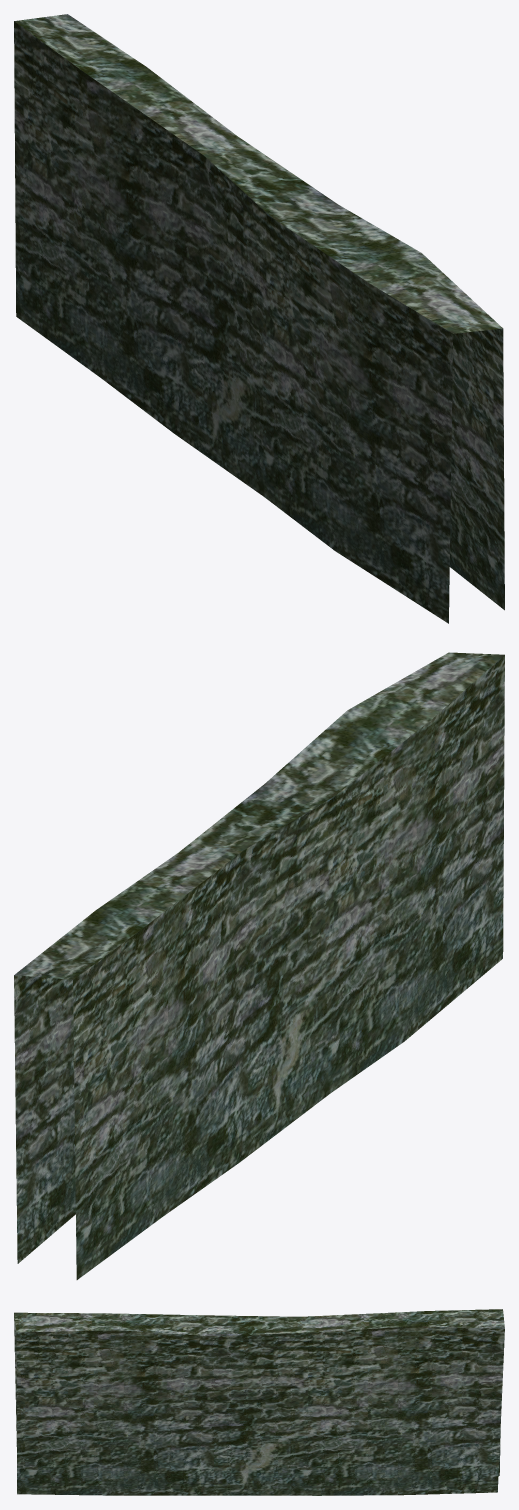
Rendered from Tn_wall.glb.
3 views of the same model, one above another, from view 1: azimuth 30°, elevation 25°; view 2: azimuth 150°, elevation 25°; view 3: azimuth 270°, elevation 25° (orthographic). The views are drawn at different scales.
Visible parts, largest first — view 1: Tn_wall; view 2: Tn_wall; view 3: Tn_wall.
Part boxes in pixels (x1,y1,x2,y2): Tn_wall: (14,14,504,623); Tn_wall: (14,652,504,1279); Tn_wall: (14,1309,504,1495).
Bounding box in the file's own units: 2.06 × 8.11 × 21.47.
Materials: 1 (1 with a texture image).
